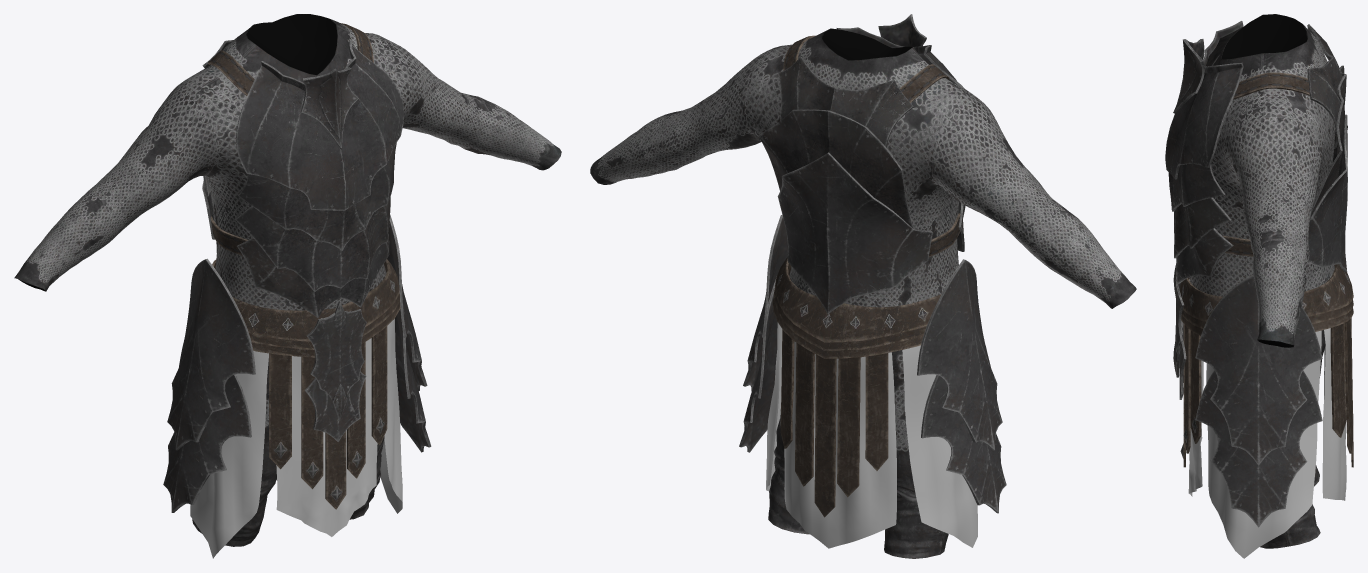
File: sk_uruk_mordor_chainmail_elite_a1.fbx
3 renders of one model, left to right at view 1: azimuth 30°, elevation 25°; view 2: azimuth 150°, elevation 25°; view 3: azimuth 270°, elevation 25°, orthographic. The views are drawn at different scales.
Visible parts, largest first — view 1: sk_uruk_mordor_chainmail_elite_a1.3, sk_uruk_mordor_chainmail_elite_a1.0, sk_uruk_mordor_chainmail_elite_a1.4, sk_uruk_mordor_chainmail_elite_a1.1, sk_uruk_mordor_chainmail_elite_a1.2; view 2: sk_uruk_mordor_chainmail_elite_a1.0, sk_uruk_mordor_chainmail_elite_a1.3, sk_uruk_mordor_chainmail_elite_a1.1, sk_uruk_mordor_chainmail_elite_a1.4, sk_uruk_mordor_chainmail_elite_a1.2; view 3: sk_uruk_mordor_chainmail_elite_a1.0, sk_uruk_mordor_chainmail_elite_a1.4, sk_uruk_mordor_chainmail_elite_a1.3, sk_uruk_mordor_chainmail_elite_a1.1, sk_uruk_mordor_chainmail_elite_a1.2.
Boxes of the visible parts, x1,y1,x2,y2 form: sk_uruk_mordor_chainmail_elite_a1.3: (202,39,404,441); sk_uruk_mordor_chainmail_elite_a1.0: (14,14,561,546); sk_uruk_mordor_chainmail_elite_a1.4: (163,214,431,512); sk_uruk_mordor_chainmail_elite_a1.1: (208,23,400,509); sk_uruk_mordor_chainmail_elite_a1.2: (190,319,402,558); sk_uruk_mordor_chainmail_elite_a1.0: (590,28,1136,558); sk_uruk_mordor_chainmail_elite_a1.3: (758,14,965,313); sk_uruk_mordor_chainmail_elite_a1.1: (772,35,960,517); sk_uruk_mordor_chainmail_elite_a1.4: (739,215,1006,513); sk_uruk_mordor_chainmail_elite_a1.2: (766,322,977,548); sk_uruk_mordor_chainmail_elite_a1.0: (1189,14,1335,548); sk_uruk_mordor_chainmail_elite_a1.4: (1195,274,1322,527); sk_uruk_mordor_chainmail_elite_a1.3: (1165,21,1347,399); sk_uruk_mordor_chainmail_elite_a1.1: (1179,72,1353,467); sk_uruk_mordor_chainmail_elite_a1.2: (1188,279,1346,558).
Size of the model in its own units: 1.37 by 0.4273 by 1.21.
